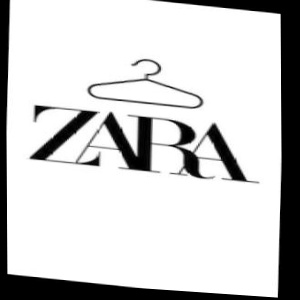zara: (256, 62, 276, 172)
